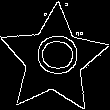O_W: (27, 36, 80, 82)
